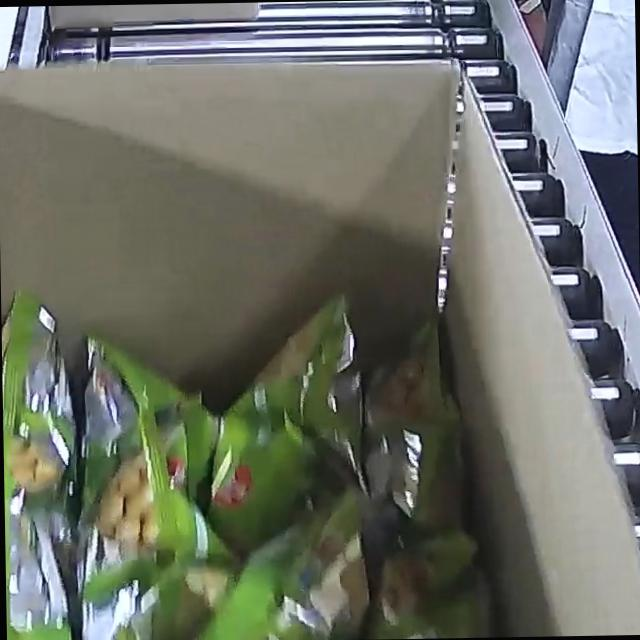yogurt: (0, 275, 529, 640)
